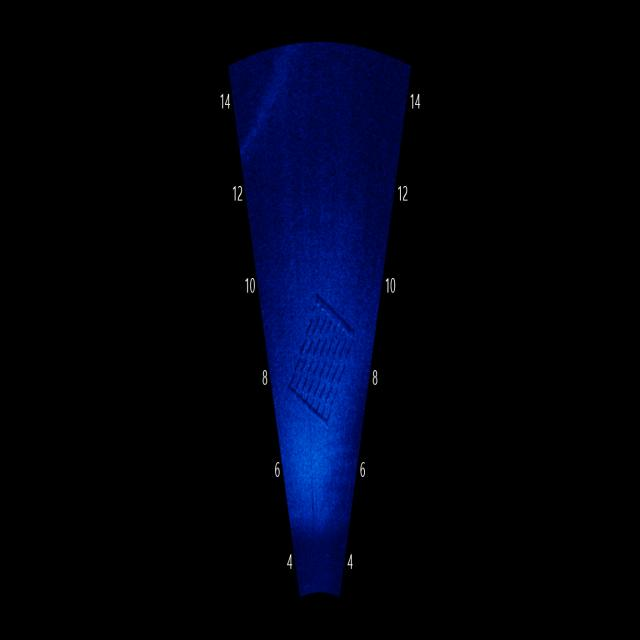square: (288, 286, 358, 440)
